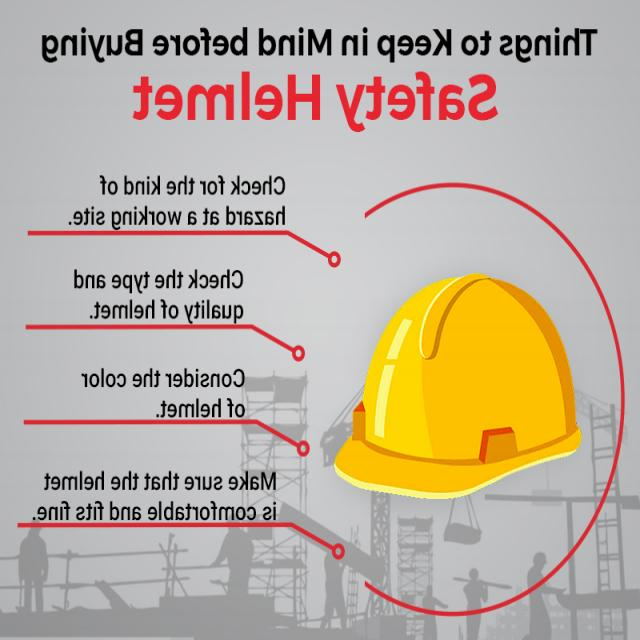Safety-Helmet: (331, 271, 589, 498), (466, 564, 484, 580)
